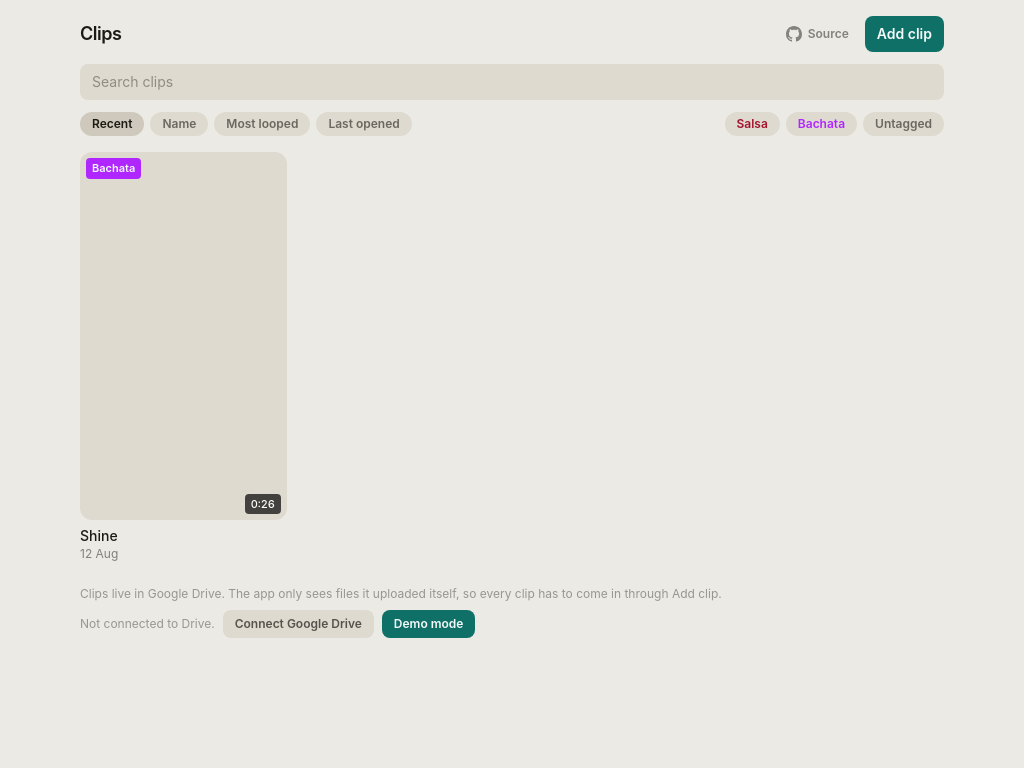
the style chips › names the style when a search inside it matches nothing
Click the 1st button "Bachata". click: click(821, 124)
box: 786,112 -> 857,136
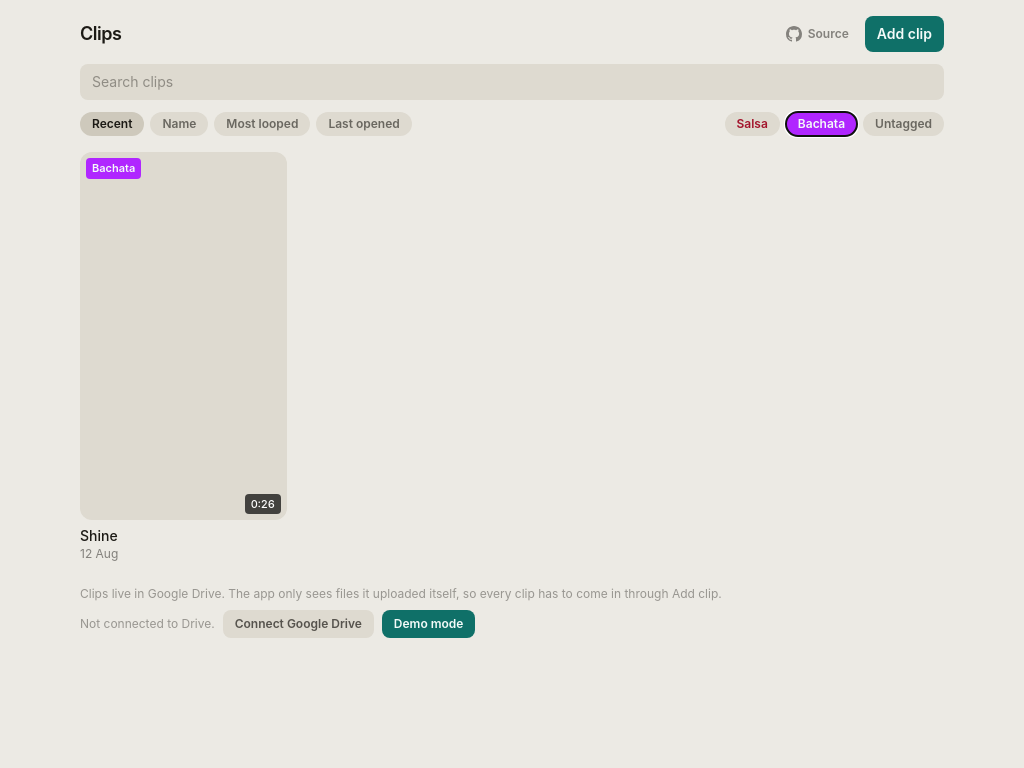
Type "shuffle" into the search field labelled "Search clips". click: (512, 82)
box: 80,64 -> 944,100
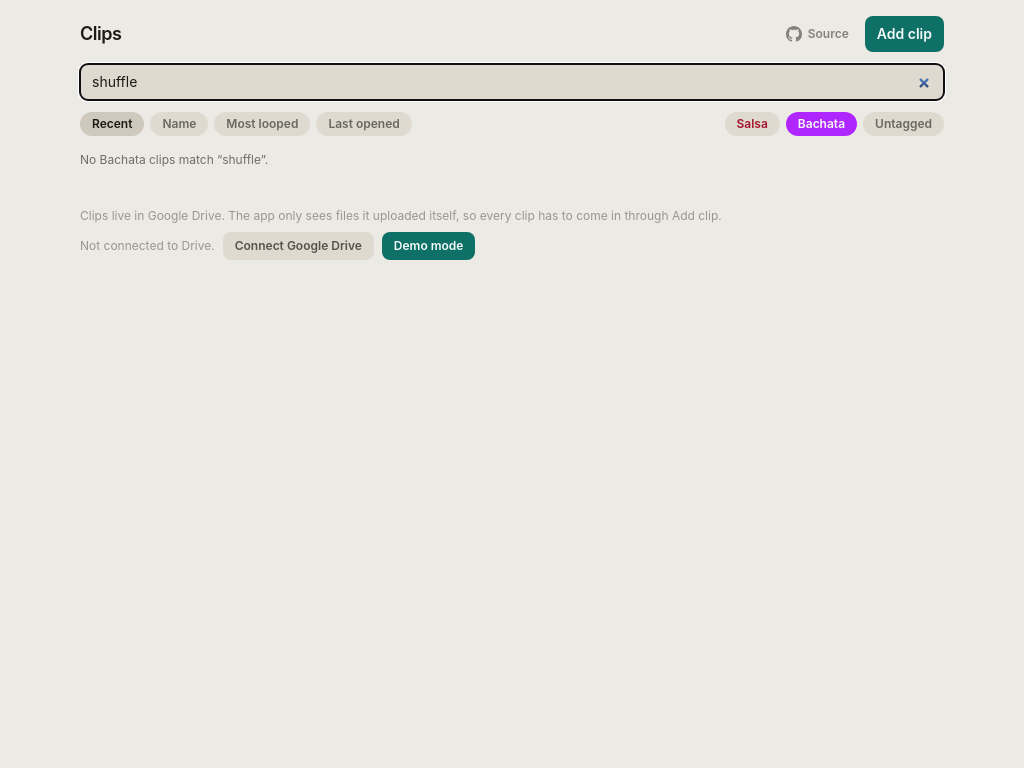
Check: the message named "Search clips" reads "No Bachata clips match “shuffle”.", box 80,152 -> 268,167
